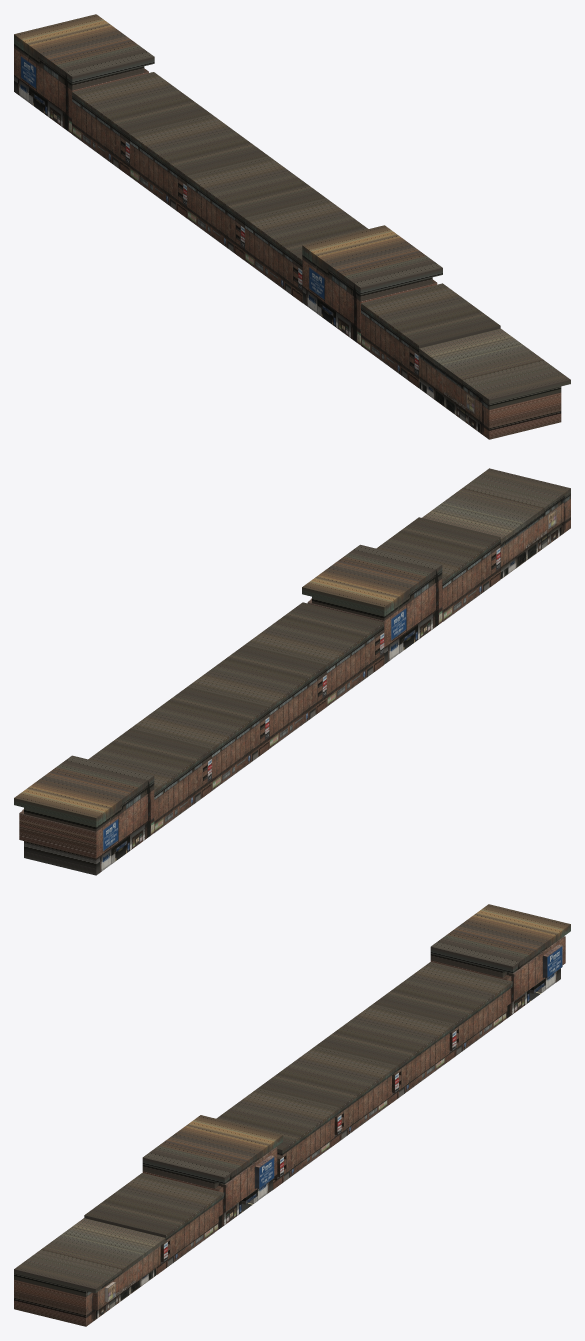
3 renders of one model, top to bottom at view 1: azimuth 30°, elevation 25°; view 2: azimuth 150°, elevation 25°; view 3: azimuth 330°, elevation 25°, orthographic.
Parts seen in each view (by area): view 1: Gemini_Generated_Image_7u7imi7u7imi7u7i, Gemini_Generated_Image_7u7imi7u7imi7u7i.001, Gemini_Generated_Image_7u7imi7u7imi7u7i.008, Gemini_Generated_Image_7u7imi7u7imi7u7i.002, Gemini_Generated_Image_7u7imi7u7imi7u7i.006, Gemini_Generated_Image_7u7imi7u7imi7u7i.005, Gemini_Generated_Image_7u7imi7u7imi7u7i.007, Gemini_Generated_Image_7u7imi7u7imi7u7i.004; view 2: Gemini_Generated_Image_7u7imi7u7imi7u7i.008, Gemini_Generated_Image_7u7imi7u7imi7u7i.001, Gemini_Generated_Image_7u7imi7u7imi7u7i, Gemini_Generated_Image_7u7imi7u7imi7u7i.004, Gemini_Generated_Image_7u7imi7u7imi7u7i.005, Gemini_Generated_Image_7u7imi7u7imi7u7i.007, Gemini_Generated_Image_7u7imi7u7imi7u7i.002, Gemini_Generated_Image_7u7imi7u7imi7u7i.006; view 3: Gemini_Generated_Image_7u7imi7u7imi7u7i, Gemini_Generated_Image_7u7imi7u7imi7u7i.001, Gemini_Generated_Image_7u7imi7u7imi7u7i.008, Gemini_Generated_Image_7u7imi7u7imi7u7i.002, Gemini_Generated_Image_7u7imi7u7imi7u7i.006, Gemini_Generated_Image_7u7imi7u7imi7u7i.005, Gemini_Generated_Image_7u7imi7u7imi7u7i.007, Gemini_Generated_Image_7u7imi7u7imi7u7i.004.
Part boxes in pixels (x1,y1,x2,y2): Gemini_Generated_Image_7u7imi7u7imi7u7i: (419,328,570,439); Gemini_Generated_Image_7u7imi7u7imi7u7i.001: (302,225,442,345); Gemini_Generated_Image_7u7imi7u7imi7u7i.008: (14,14,154,133); Gemini_Generated_Image_7u7imi7u7imi7u7i.002: (361,283,500,387); Gemini_Generated_Image_7u7imi7u7imi7u7i.006: (72,72,211,176); Gemini_Generated_Image_7u7imi7u7imi7u7i.005: (187,156,325,260); Gemini_Generated_Image_7u7imi7u7imi7u7i.007: (129,114,268,218); Gemini_Generated_Image_7u7imi7u7imi7u7i.004: (245,198,368,302); Gemini_Generated_Image_7u7imi7u7imi7u7i.008: (14,755,154,875); Gemini_Generated_Image_7u7imi7u7imi7u7i.001: (302,544,442,664); Gemini_Generated_Image_7u7imi7u7imi7u7i: (422,468,570,578); Gemini_Generated_Image_7u7imi7u7imi7u7i.004: (245,602,384,706); Gemini_Generated_Image_7u7imi7u7imi7u7i.005: (188,645,326,748); Gemini_Generated_Image_7u7imi7u7imi7u7i.007: (130,686,269,790); Gemini_Generated_Image_7u7imi7u7imi7u7i.002: (376,517,500,621); Gemini_Generated_Image_7u7imi7u7imi7u7i.006: (88,728,211,832); Gemini_Generated_Image_7u7imi7u7imi7u7i: (14,1218,165,1326); Gemini_Generated_Image_7u7imi7u7imi7u7i.001: (142,1115,282,1232); Gemini_Generated_Image_7u7imi7u7imi7u7i.008: (430,904,570,1021); Gemini_Generated_Image_7u7imi7u7imi7u7i.002: (84,1173,223,1275); Gemini_Generated_Image_7u7imi7u7imi7u7i.006: (373,962,512,1063); Gemini_Generated_Image_7u7imi7u7imi7u7i.005: (258,1046,397,1147); Gemini_Generated_Image_7u7imi7u7imi7u7i.007: (316,1003,454,1105); Gemini_Generated_Image_7u7imi7u7imi7u7i.004: (216,1088,339,1189).
Size of the model in its own units: 0.4574 by 0.3065 by 4.57.
Materials: 7 (7 with a texture image).
